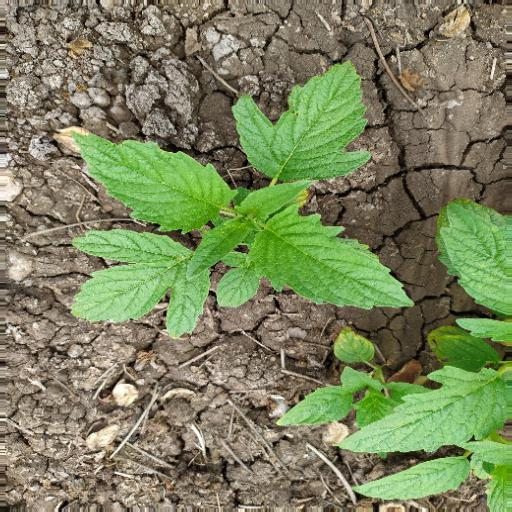crop: (45, 37, 413, 380)
